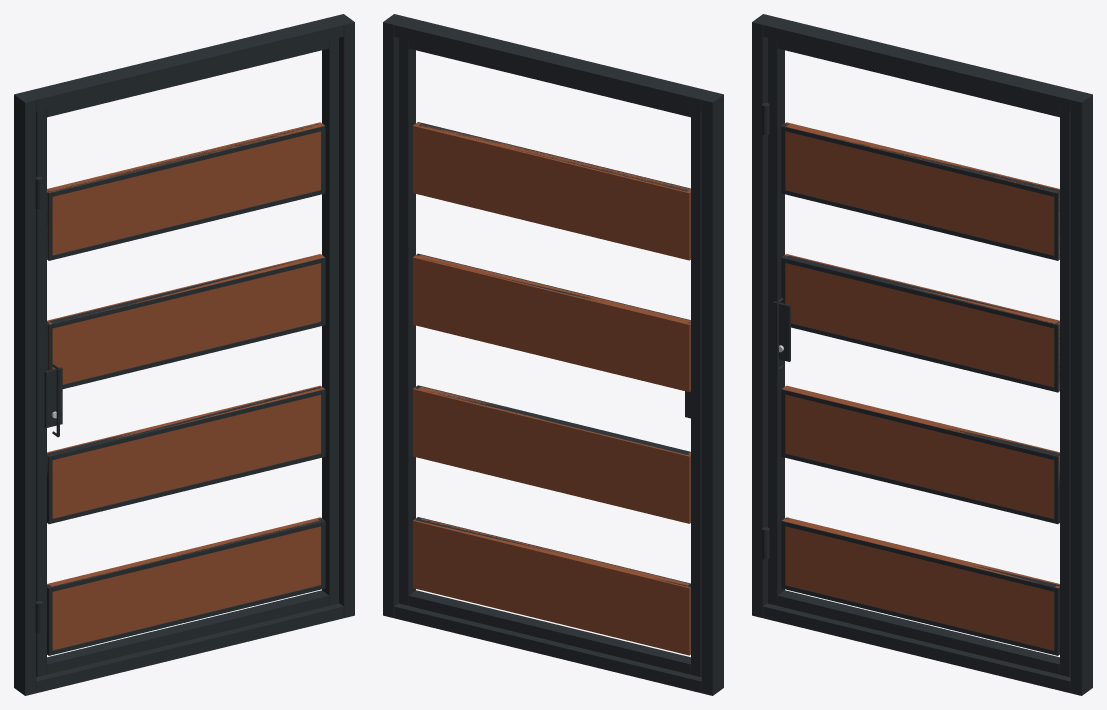
File: black-frame-brown-accent-gate-10.glb
3 renders of one model, left to right at view 1: azimuth 30°, elevation 25°; view 2: azimuth 150°, elevation 25°; view 3: azimuth 330°, elevation 25°, orthographic.
Parts seen in each view (by area): view 1: Gate leaf 0 / Accent panel, Outer gate posts, Gate leaf 0 / Leaf frame, Gate leaf 0 / Panel perimeter, Gate leaf 0 / Latch plate; view 2: Gate leaf 0 / Accent panel, Outer gate posts, Gate leaf 0 / Leaf frame, Gate leaf 0 / Panel perimeter; view 3: Gate leaf 0 / Accent panel, Outer gate posts, Gate leaf 0 / Leaf frame, Gate leaf 0 / Panel perimeter, Gate leaf 0 / Latch plate.
Boxes of the visible parts, bbox=[...] form: Gate leaf 0 / Accent panel: bbox=[47, 122, 324, 650]; Outer gate posts: bbox=[14, 14, 354, 695]; Gate leaf 0 / Leaf frame: bbox=[36, 38, 338, 676]; Gate leaf 0 / Panel perimeter: bbox=[47, 124, 325, 655]; Gate leaf 0 / Latch plate: bbox=[44, 367, 62, 427]; Gate leaf 0 / Accent panel: bbox=[413, 122, 690, 655]; Outer gate posts: bbox=[383, 14, 723, 695]; Gate leaf 0 / Leaf frame: bbox=[399, 38, 701, 676]; Gate leaf 0 / Panel perimeter: bbox=[414, 122, 690, 587]; Gate leaf 0 / Accent panel: bbox=[782, 122, 1059, 650]; Outer gate posts: bbox=[752, 14, 1092, 695]; Gate leaf 0 / Leaf frame: bbox=[768, 38, 1070, 676]; Gate leaf 0 / Panel perimeter: bbox=[781, 123, 1059, 655]; Gate leaf 0 / Latch plate: bbox=[773, 301, 790, 361].
Bounding box in the file's own units: 1.18 × 2.03 × 0.098.
